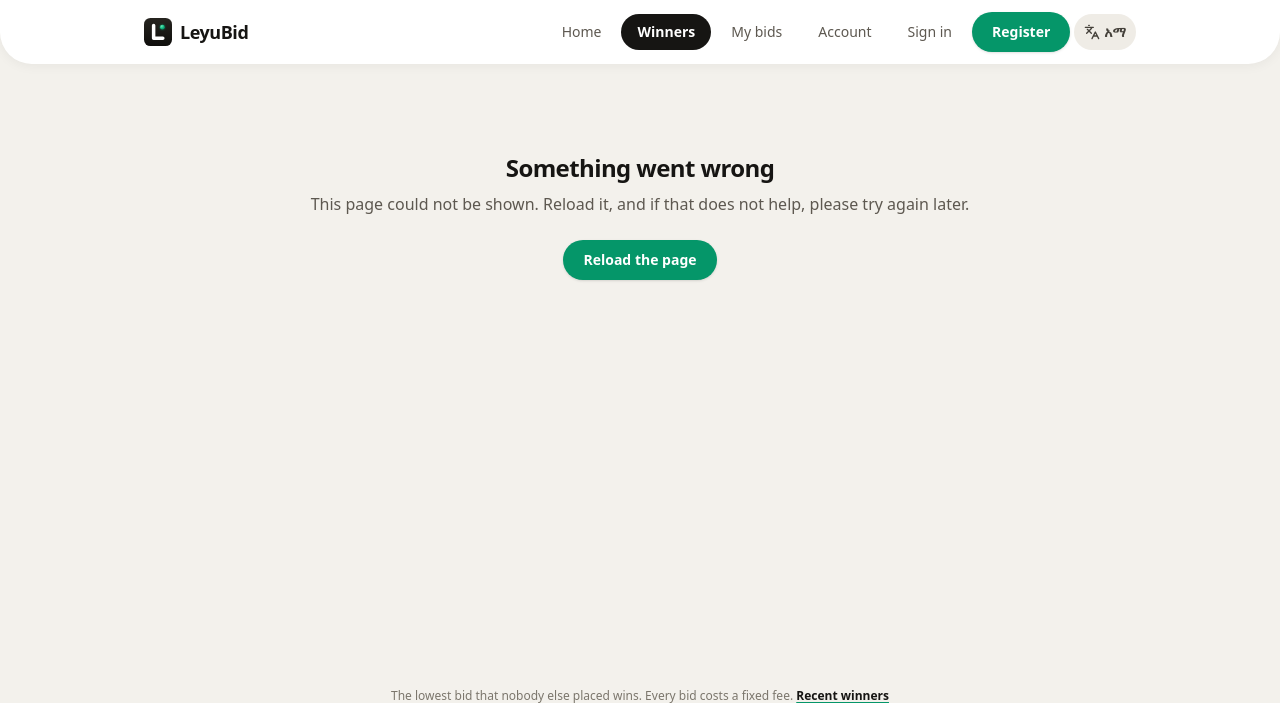
Test: a page that fails to draw › shows a message in place of the page, keeps the navigation, and recovers on another page
expect the heading "Something went wrong" is shown: met, box [506,151,774,184]
expect the button "Reload the page" is shown: met, box [564,240,717,280]
Click the link "Home": {"x": 582, "y": 32} [562,22,601,41]
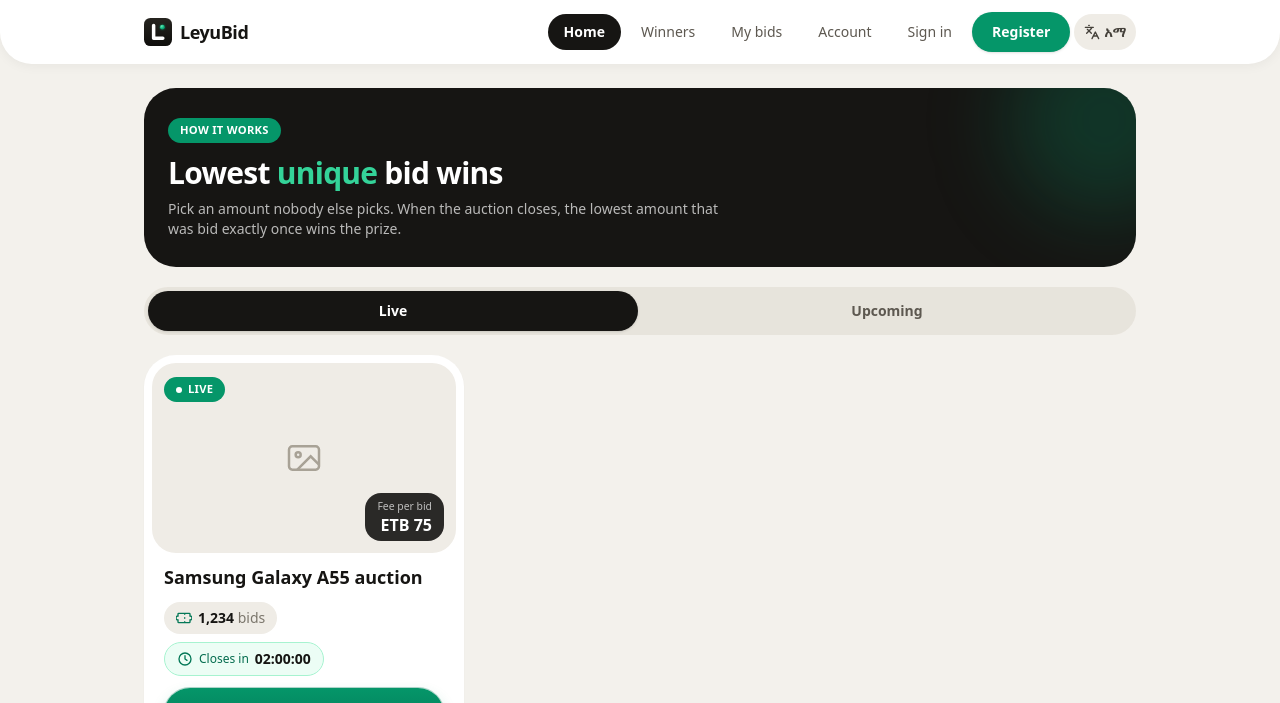
expect the heading "Lowest unique bid wins" is shown: met, box [168,152,503,193]
expect the heading "Something went wrong" is gone: met
